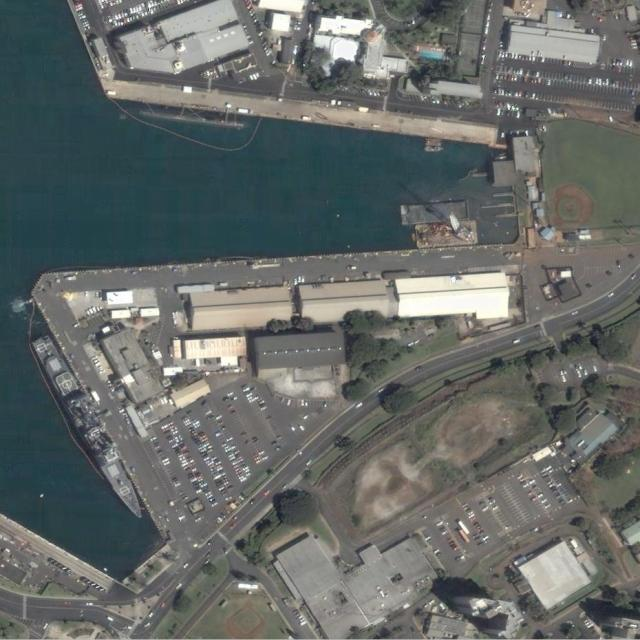Cruiser: (31, 334, 148, 522)
Submarine: (136, 108, 248, 129)
